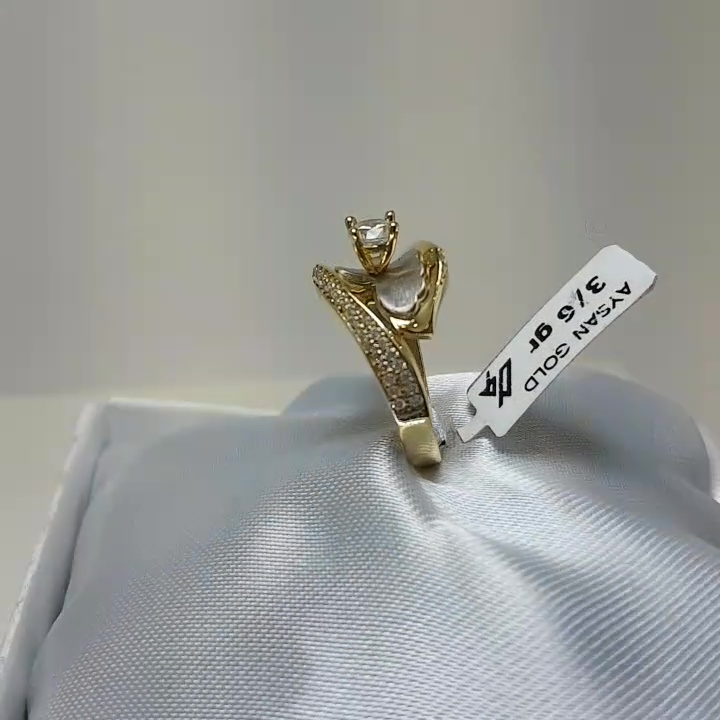Ring 6: (282, 207, 503, 485)
